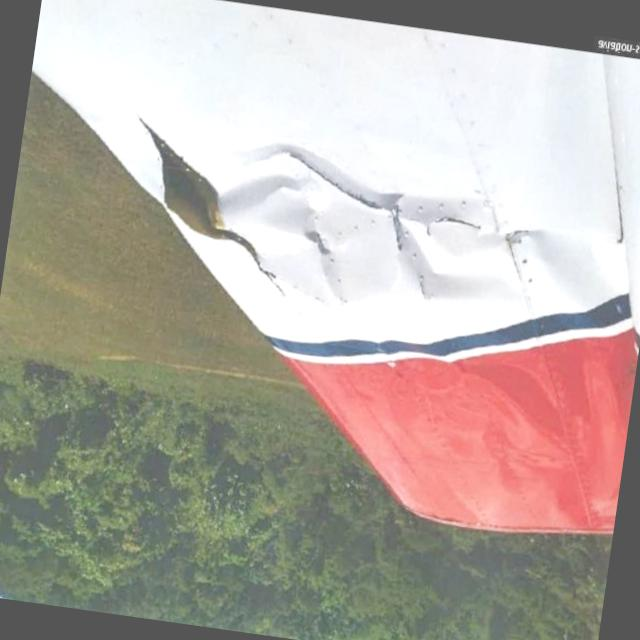crack: (288, 158, 398, 228), (424, 200, 505, 244), (377, 198, 418, 244)
